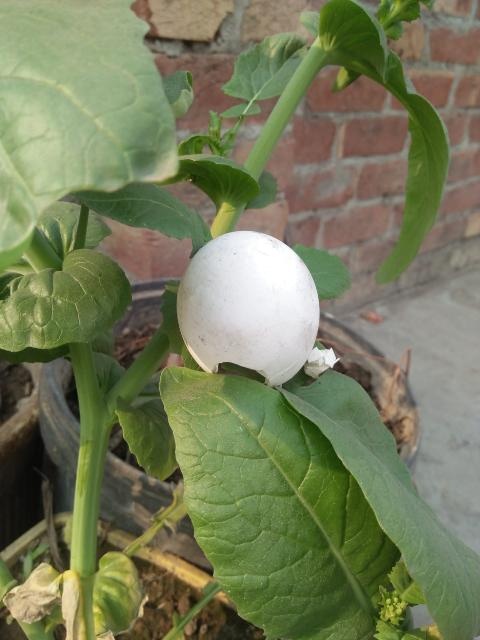Roto: (175, 229, 320, 387)
